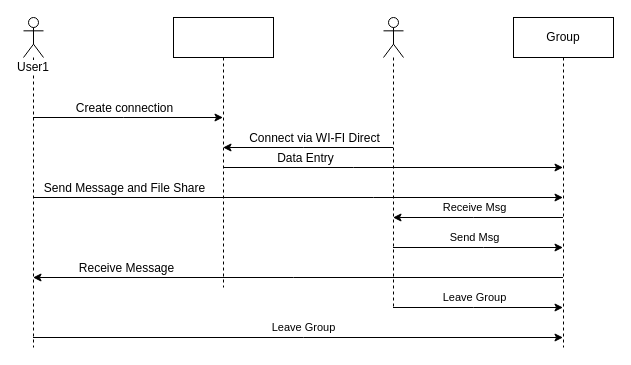
Some shapes in this 631 by 365 pixel diagram are drawn without their labels. Each missing label, with the box of its shape:
Connection: (172, 16, 274, 288)
User2: (382, 16, 404, 308)
